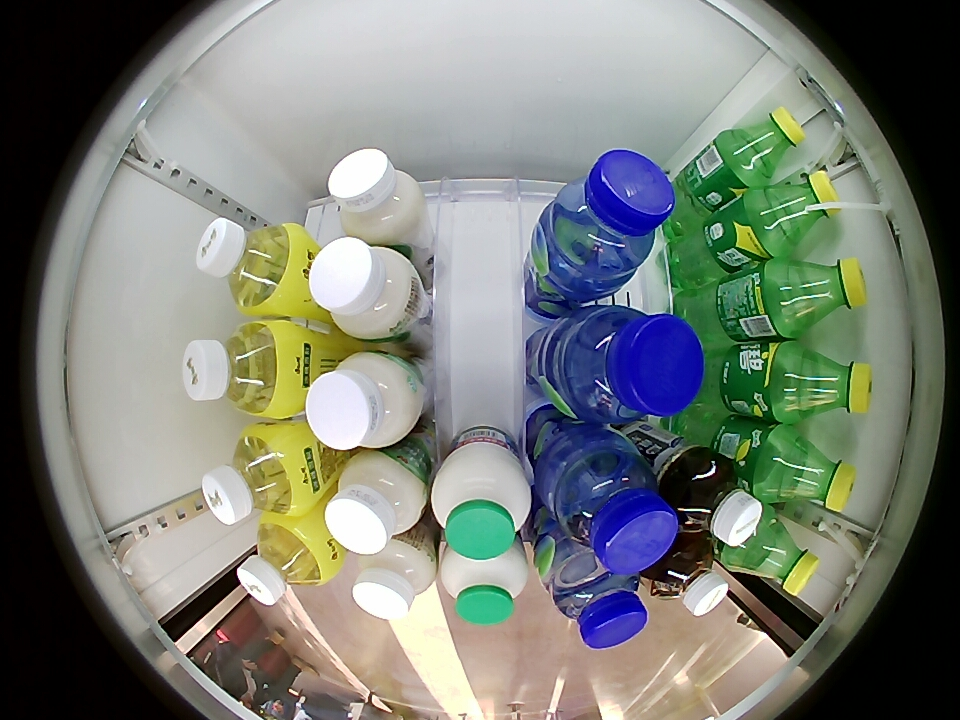bingtangxueli: (182, 319, 300, 418), (201, 423, 311, 525), (196, 217, 306, 316), (237, 515, 337, 606)
liziyuan: (430, 440, 534, 560), (440, 540, 529, 627)
maidong: (547, 150, 676, 280), (559, 307, 704, 422), (550, 446, 679, 574), (545, 546, 649, 651)
wulongcha: (668, 452, 763, 546), (647, 536, 729, 616)
xuebi-b: (733, 512, 819, 597), (771, 431, 857, 513), (758, 170, 841, 249), (790, 347, 873, 419), (786, 257, 866, 329), (729, 106, 806, 180)
yousuanru: (308, 235, 419, 342), (305, 349, 420, 452), (324, 450, 427, 556), (329, 148, 426, 245), (351, 537, 435, 621)
